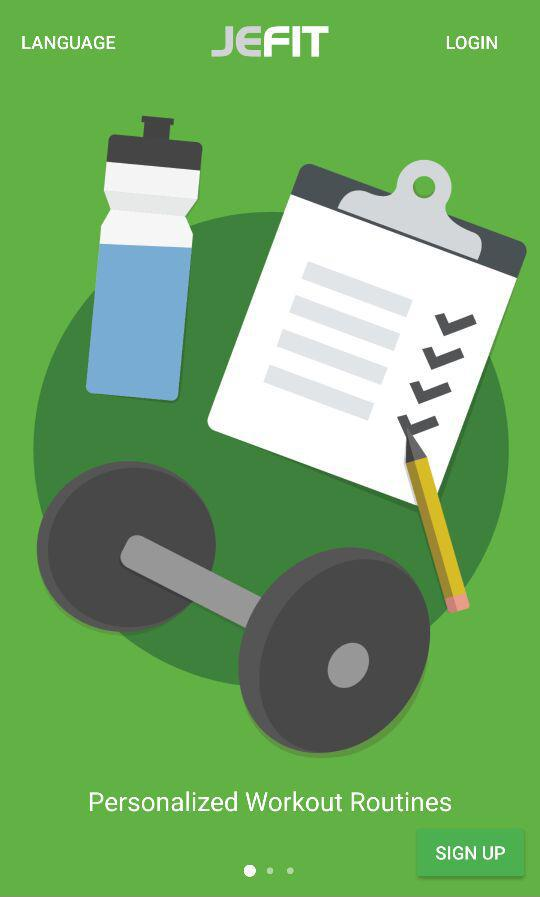Image: (33, 116, 527, 756), (211, 26, 330, 59)
PageIndicator: (243, 863, 296, 878)
Text: (90, 790, 452, 813), (22, 36, 117, 51), (446, 36, 498, 51)
TextButton: (416, 829, 525, 878)
